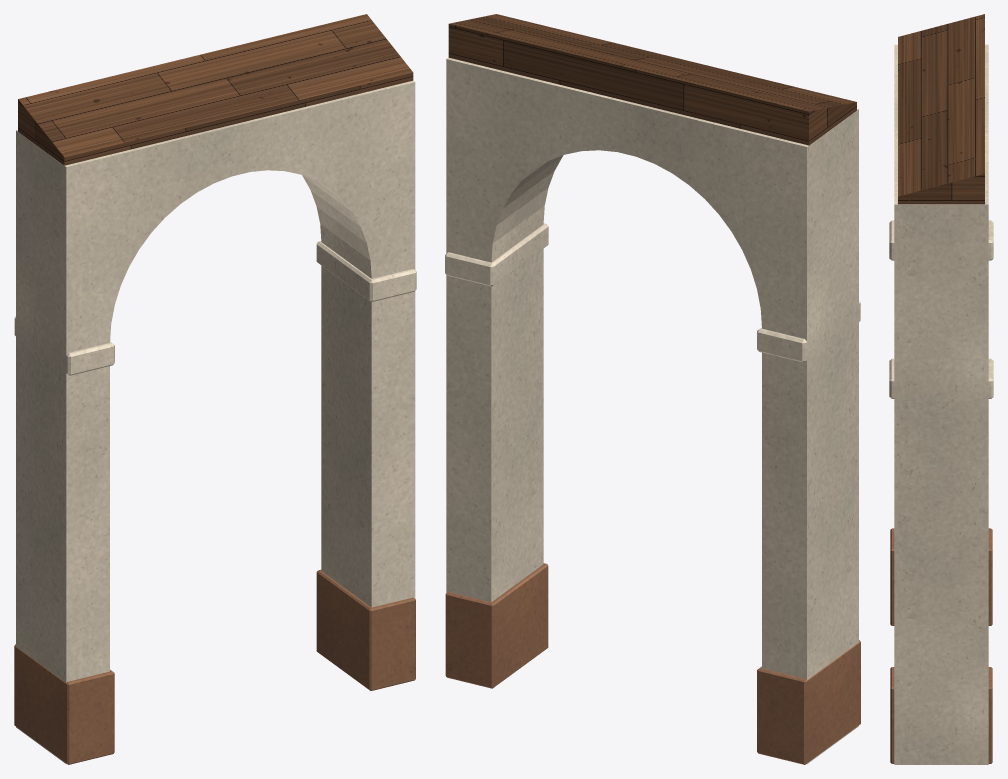
The model's file is arcade_arch.glb.
3 renders of one model, left to right at view 1: azimuth 30°, elevation 25°; view 2: azimuth 150°, elevation 25°; view 3: azimuth 270°, elevation 25°, orthographic. The views are drawn at different scales.
Parts seen in each view (by area): view 1: arcade_arch_render, arcade_arch_wood, arcade_arch_plinth; view 2: arcade_arch_render, arcade_arch_wood, arcade_arch_plinth; view 3: arcade_arch_render, arcade_arch_wood, arcade_arch_plinth.
Part boxes in pixels (x1,y1,x2,y2): arcade_arch_render: (14,80,416,764); arcade_arch_wood: (18,14,413,165); arcade_arch_plinth: (14,569,415,764); arcade_arch_render: (445,57,860,763); arcade_arch_wood: (448,14,856,145); arcade_arch_plinth: (445,563,860,764); arcade_arch_render: (889,44,993,764); arcade_arch_wood: (898,14,984,204); arcade_arch_plinth: (890,528,992,763).
Bounding box in the file's own units: 2 × 3.45 × 0.55.
3 materials, 3 textured.
